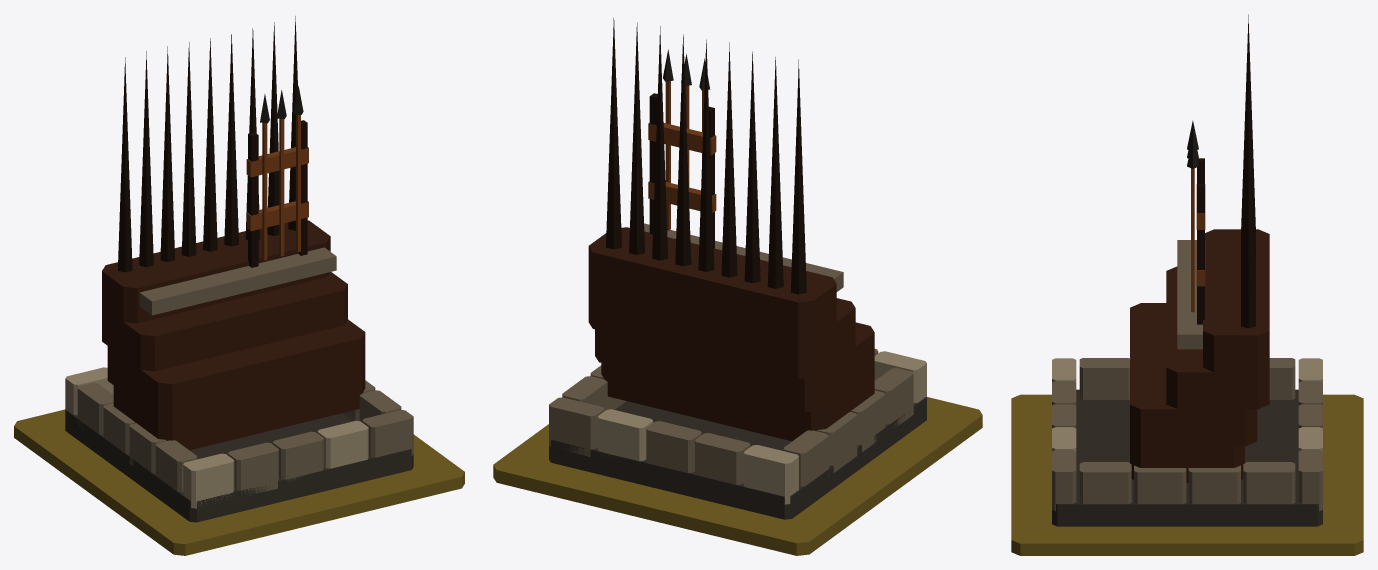
Rendered from rampart_t6.glb.
3 views of the same model, side by side, from view 1: azimuth 30°, elevation 25°; view 2: azimuth 150°, elevation 25°; view 3: azimuth 270°, elevation 25° (orthographic). The views are drawn at different scales.
Parts seen in each view (by area): view 1: MMR | rampart | T06 Architecture.001, MMR | rampart | Tier 06 Ground.001; view 2: MMR | rampart | T06 Architecture.001, MMR | rampart | Tier 06 Ground.001; view 3: MMR | rampart | T06 Architecture.001, MMR | rampart | Tier 06 Ground.001.
Boxes of the visible parts, bbox=[...] form: MMR | rampart | T06 Architecture.001: bbox=[65, 16, 413, 522]; MMR | rampart | Tier 06 Ground.001: bbox=[14, 409, 464, 555]; MMR | rampart | T06 Architecture.001: bbox=[549, 18, 926, 519]; MMR | rampart | Tier 06 Ground.001: bbox=[493, 397, 982, 555]; MMR | rampart | T06 Architecture.001: bbox=[1052, 14, 1322, 526]; MMR | rampart | Tier 06 Ground.001: bbox=[1011, 394, 1363, 555].
Bounding box in the file's own units: 1.3 × 1.73 × 1.3.
1 material, 1 textured.
